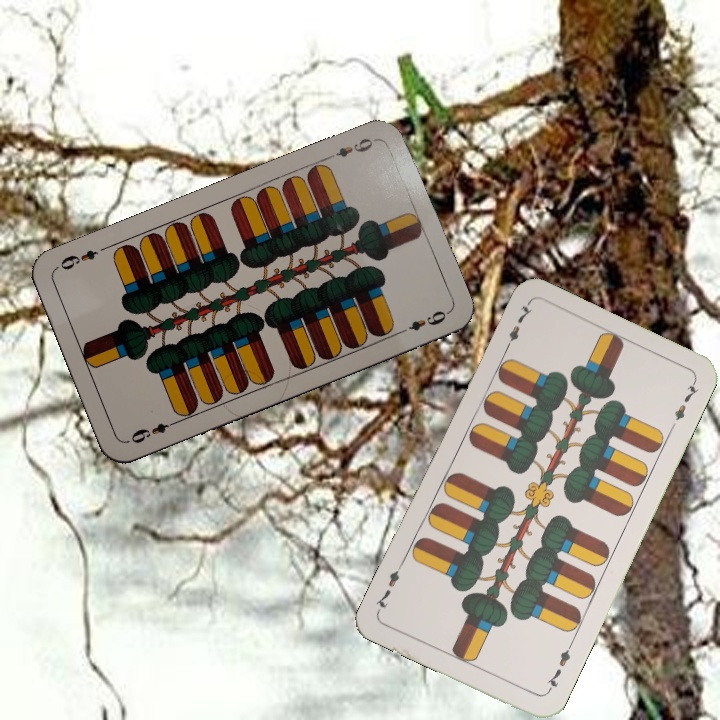E7: (500, 299, 535, 355), (542, 640, 575, 696)
E9: (124, 416, 181, 446), (323, 133, 380, 162)
